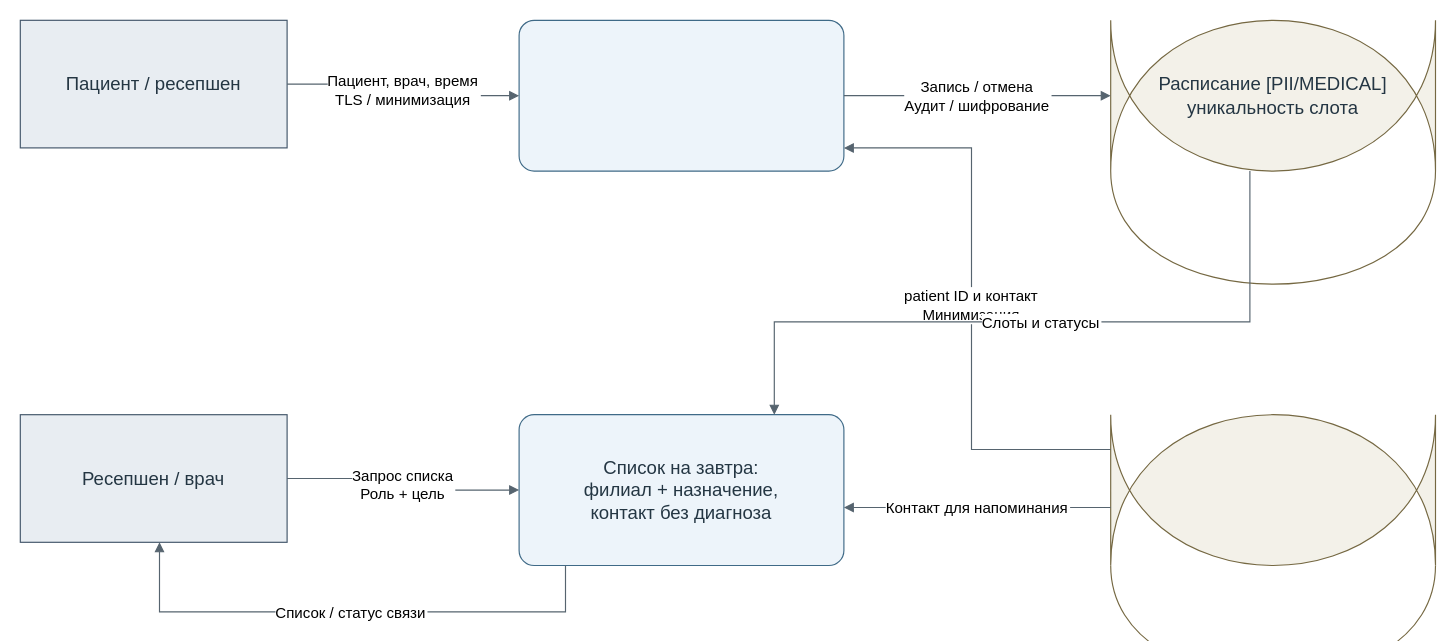
The diagram is 1456 pixels wide and 641 high, and some of its shapes have lost their labels. The centre of each missing label's shape, as x and y in pixels:
"Scheduling API: проверка слота, транзакция и idempotency" goes at [681,95].
"Контактная проекция Patient Registry минимальные поля" goes at [1273,490].
